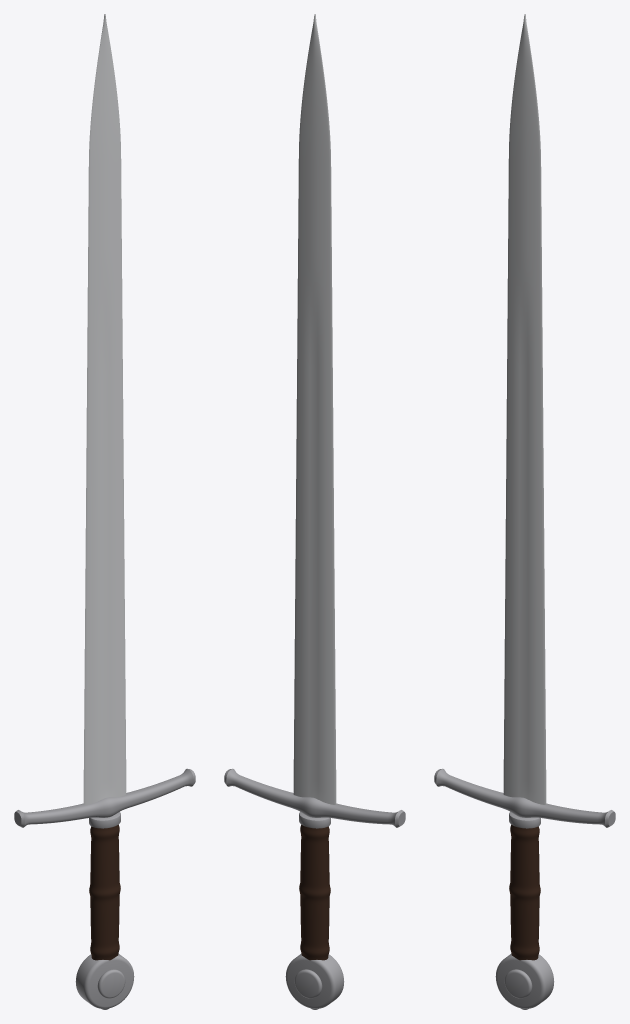
The model's file is ArmingSword.glb.
3 views of the same model, side by side, from view 1: azimuth 30°, elevation 25°; view 2: azimuth 150°, elevation 25°; view 3: azimuth 330°, elevation 25° (orthographic).
Visible parts, largest first — view 1: ArmingSword; view 2: ArmingSword; view 3: ArmingSword.
Part boxes in pixels (left/top/right/bottom): ArmingSword: left=14, top=14, right=195, bottom=1009; ArmingSword: left=224, top=14, right=405, bottom=1009; ArmingSword: left=434, top=14, right=615, bottom=1009.
Bounding box in the file's own units: 0.21 × 1.15 × 0.033.
